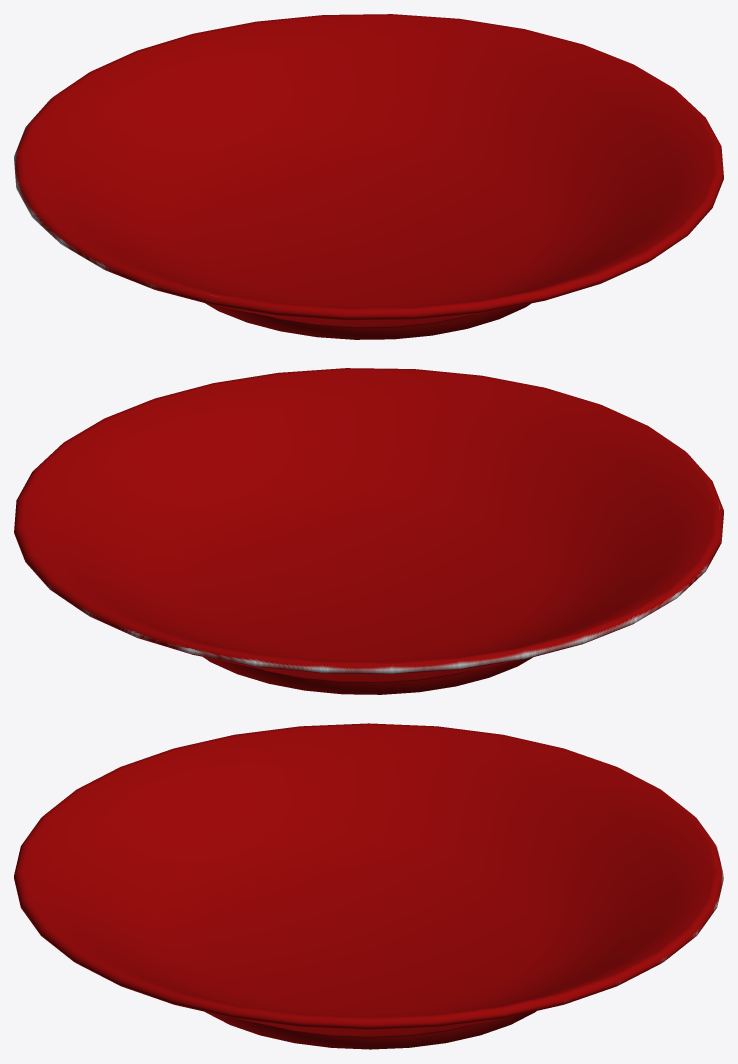
Rendered from piatto_rosso.glb.
3 renders of one model, top to bottom at view 1: azimuth 30°, elevation 25°; view 2: azimuth 150°, elevation 25°; view 3: azimuth 270°, elevation 25°, orthographic.
Visible parts, largest first — view 1: Mesh_0; view 2: Mesh_0; view 3: Mesh_0.
Boxes of the visible parts, left/top/right/bottom form: Mesh_0: left=14, top=14, right=723, bottom=339; Mesh_0: left=14, top=368, right=723, bottom=694; Mesh_0: left=14, top=723, right=723, bottom=1049.
Bounding box in the file's own units: 0.3705 × 0.0543 × 0.3705.
Materials: 1 (1 with a texture image).
